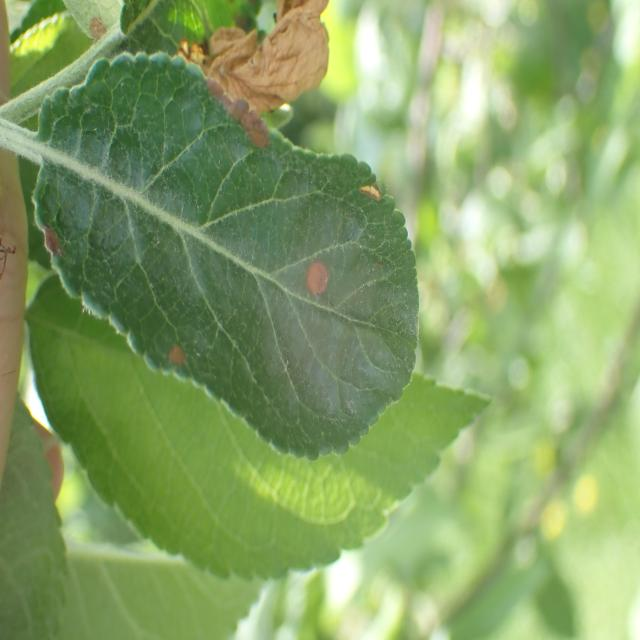Black Rot: (210, 66, 270, 172), (34, 224, 80, 282), (300, 250, 335, 318), (152, 339, 198, 387), (349, 163, 395, 206), (85, 12, 120, 62), (195, 198, 202, 205)
